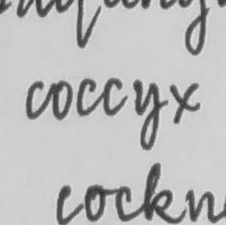c: (100, 75, 128, 118), (23, 78, 46, 121), (76, 77, 97, 119)
o: (48, 79, 74, 122)
x: (167, 78, 202, 127)
y: (131, 78, 162, 152)
